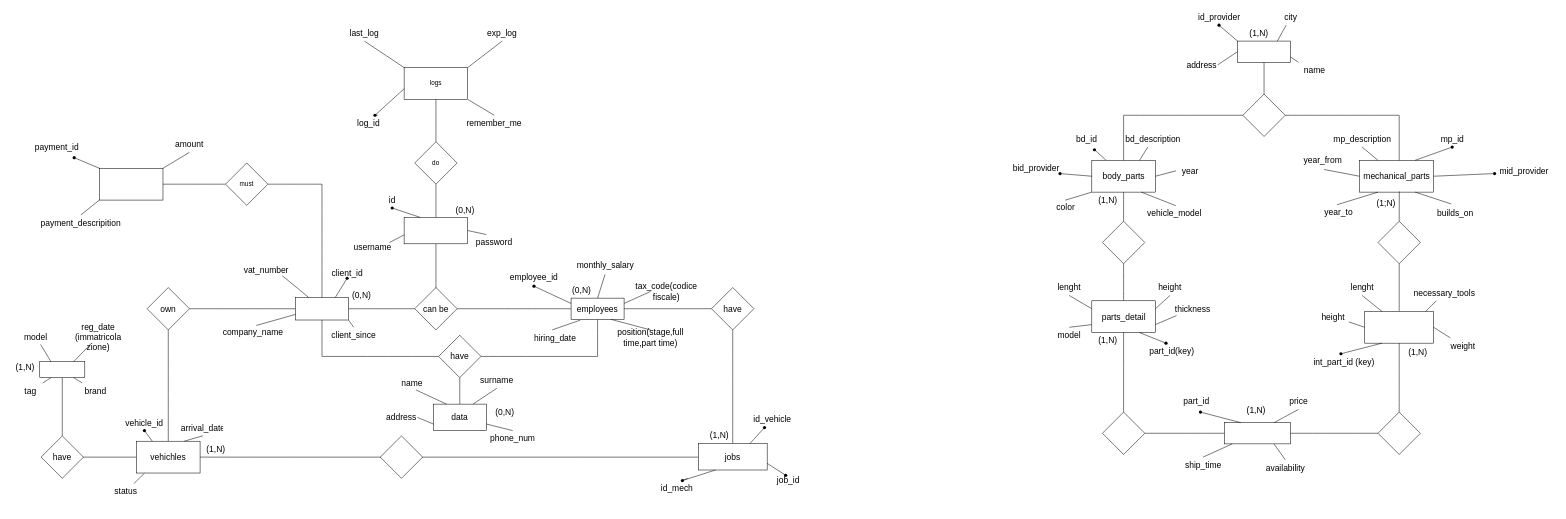
This 1566x519 diagram has some shape labels left out. The shapes that lost their labels are listed below. From the top down, each one's centre as x and y in pixels, then its label:
pixel 1264 51: providers
pixel 131 184: payments
pixel 436 230: users
pixel 321 308: clients
pixel 1399 327: intern_part_detail
pixel 62 369: vehicle_data
pixel 1257 433: reseller
pixel 401 456: work on
